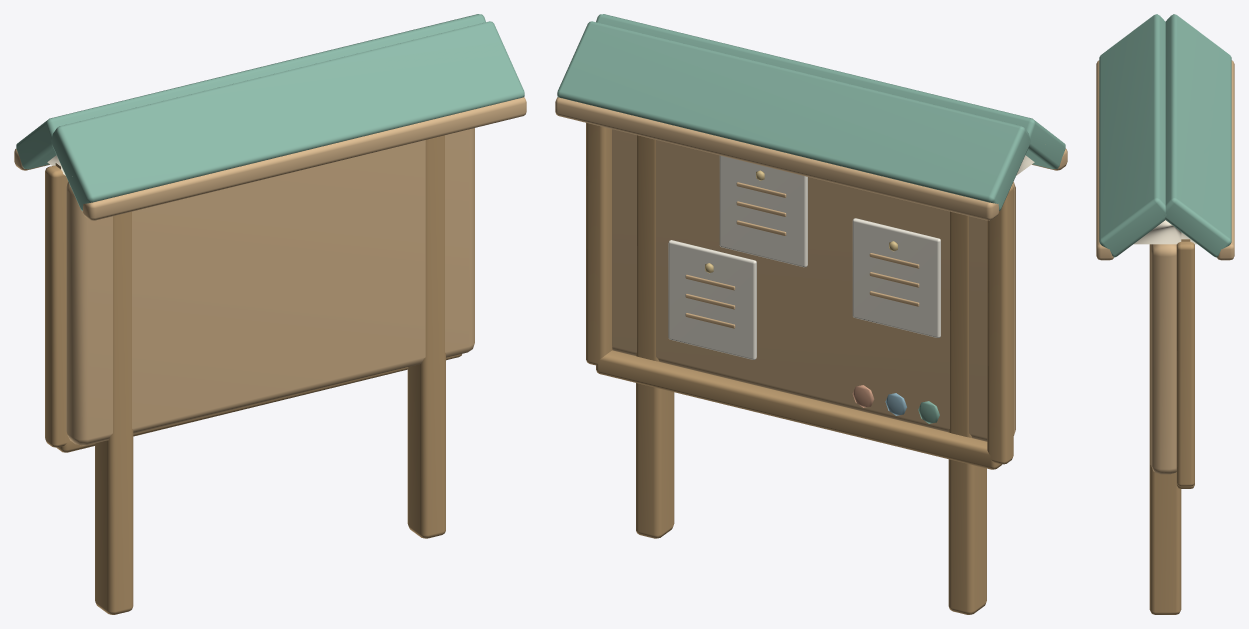
The model's file is missions.glb.
The picture shows the model from 3 angles, left to right: view 1: azimuth 30°, elevation 25°; view 2: azimuth 150°, elevation 25°; view 3: azimuth 270°, elevation 25°; orthographic projection. The views are drawn at different scales.
Bounding box in the file's own units: 2.4 × 2.62 × 0.7499.
